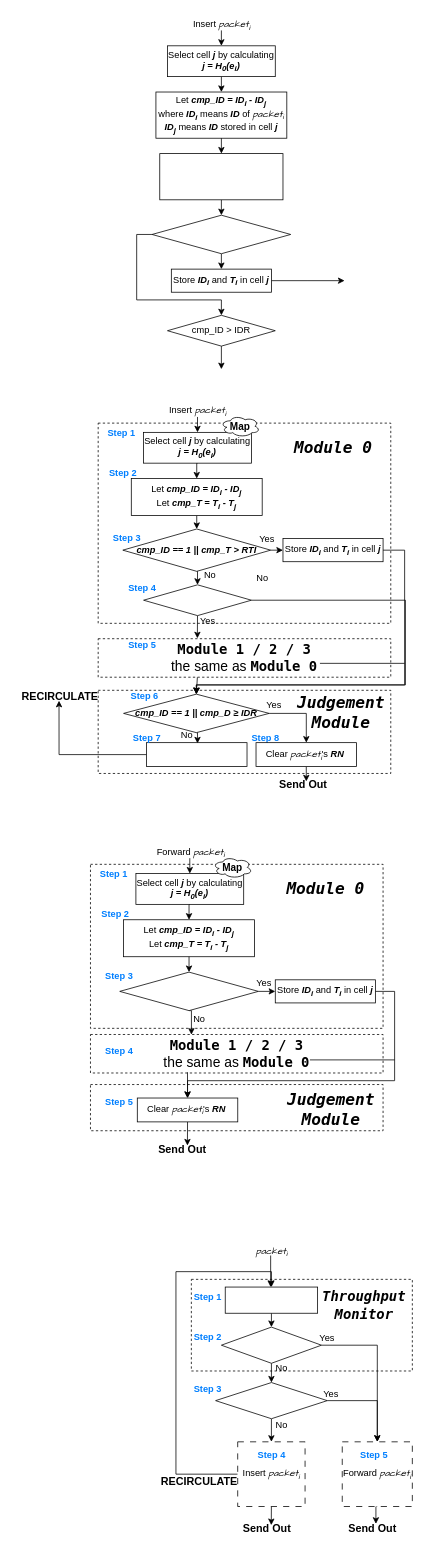
Some shapes in this 427 by 1552 pixel diagram are drawn without their labels. The shapes that lost their labels are listed below. From the top down, each one's centre as x and y in pixels, then its label:
(221,176): Let cmp_t = T i - T j where T i means T of packet i T j means T stored in cell j
(221,234): cmp_ID == 1 || cmp_t > TR
(197,600): cmp_ID ≥ RIDI
(196,754): Let packet i 's RN += 1
(188,991): cmp_ID < IDR || cmp_T > TR
(271,1299): Calculate throughput
(271,1344): High throughput?
(271,1400): packet i 's RN ≥ RNR
